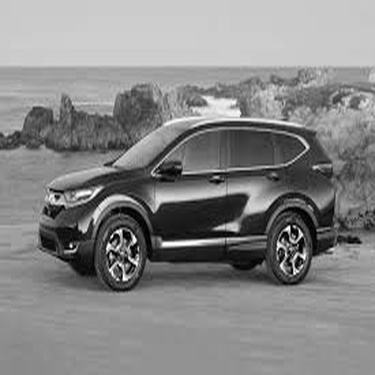car: (30, 109, 346, 288)
